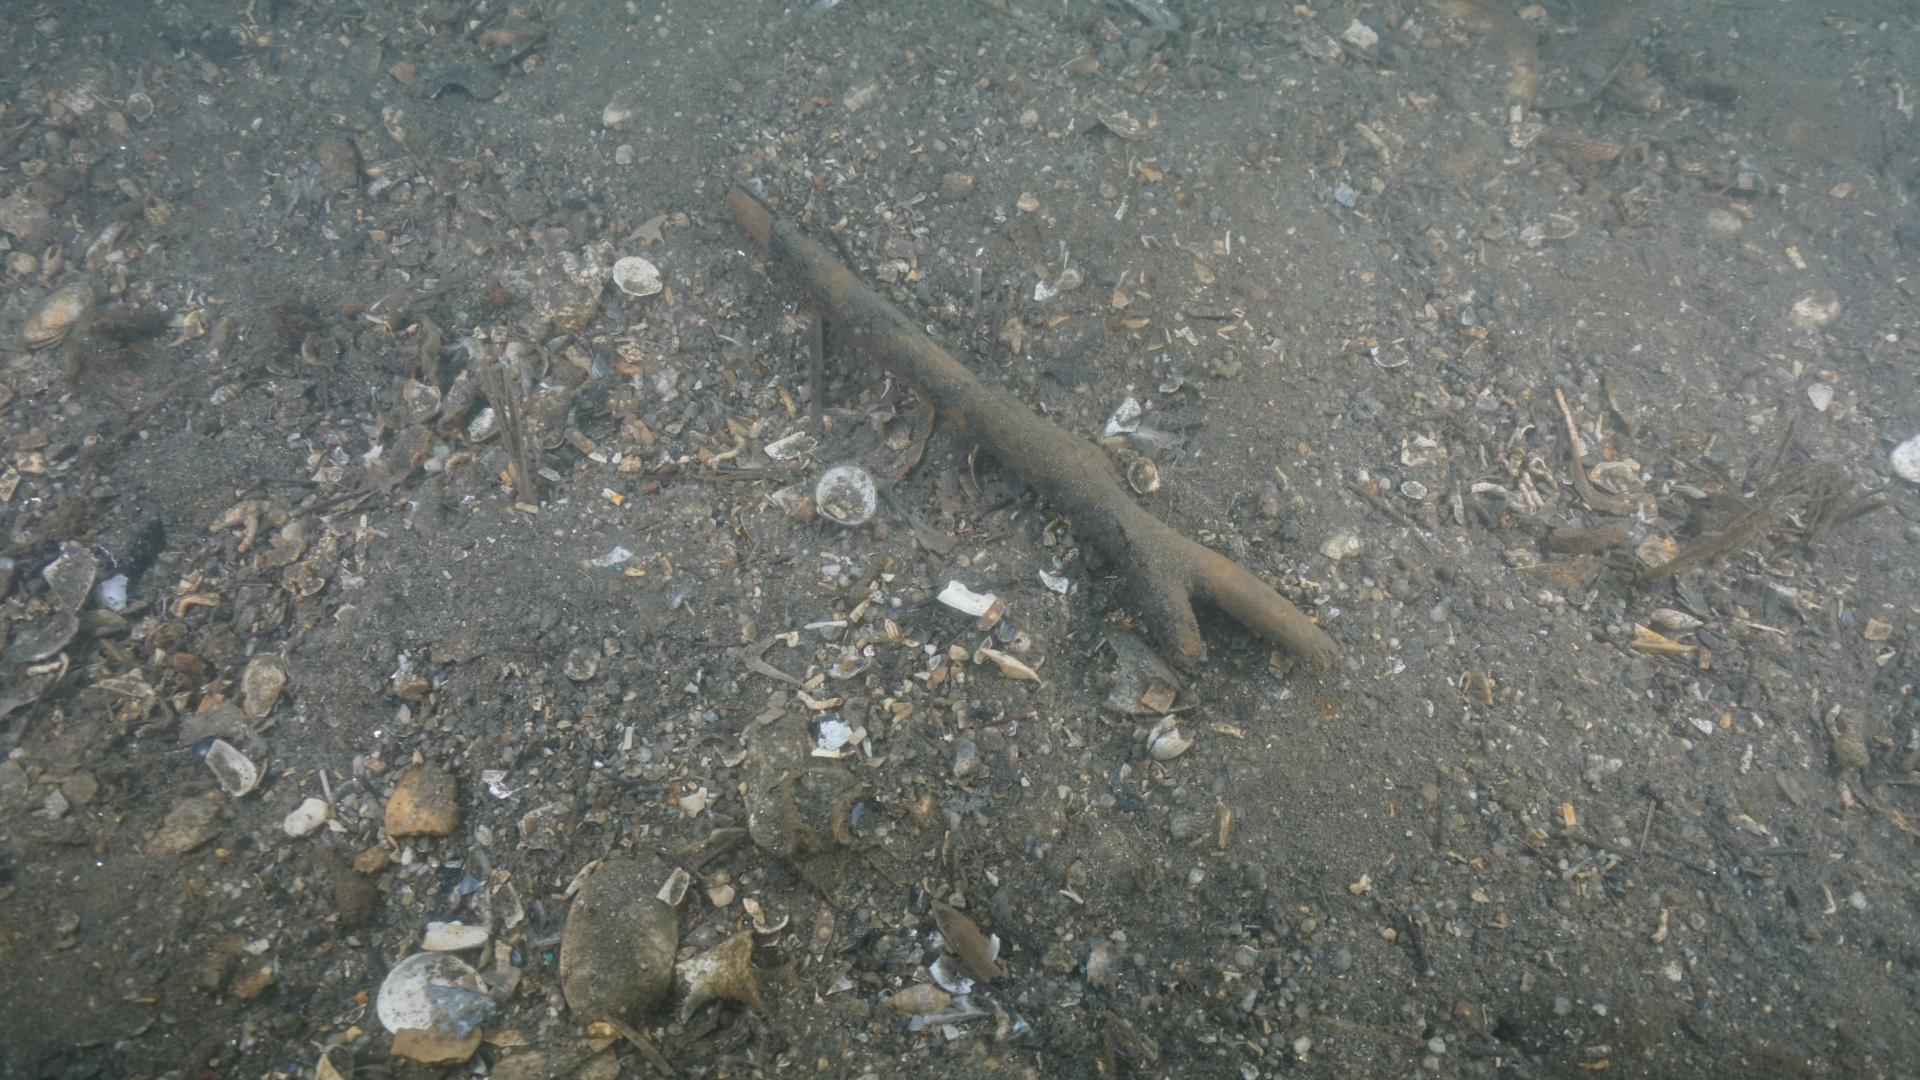wood: (724, 179, 1338, 675)
